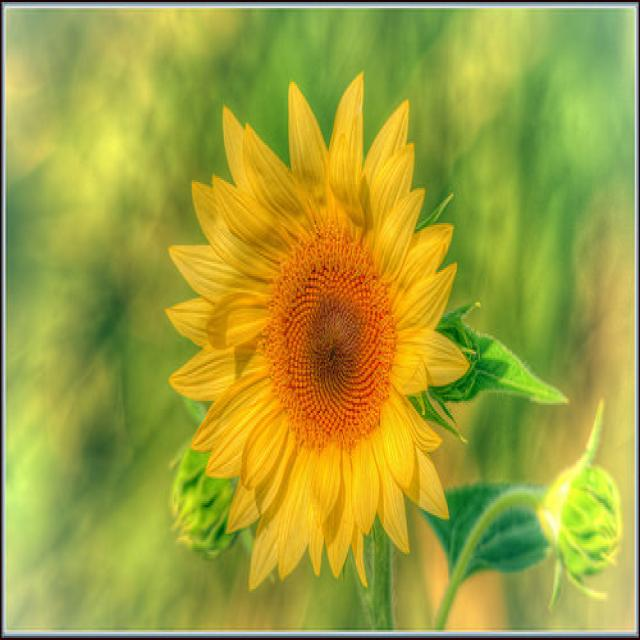sunflower: (159, 68, 473, 601)
